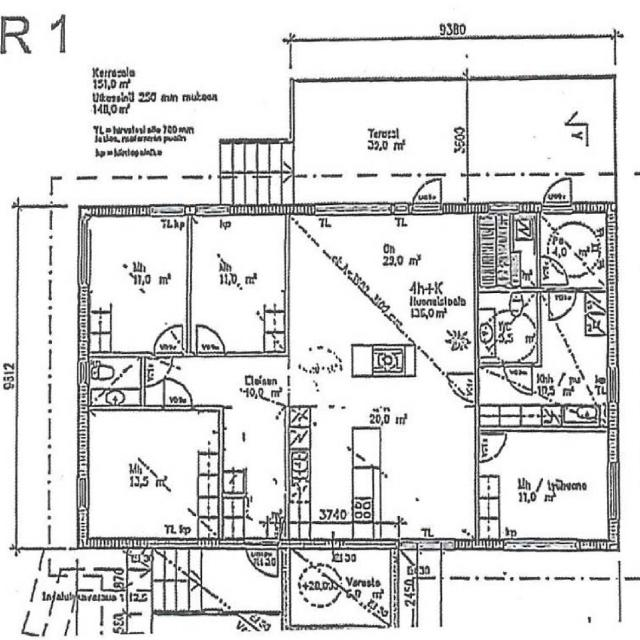door: (245, 540, 278, 584), (413, 172, 441, 214), (544, 172, 571, 214), (503, 363, 532, 397), (196, 322, 224, 357), (140, 358, 172, 388), (164, 377, 192, 411), (548, 287, 576, 321), (536, 257, 568, 286), (154, 323, 182, 356), (473, 434, 505, 462), (448, 375, 478, 402)
